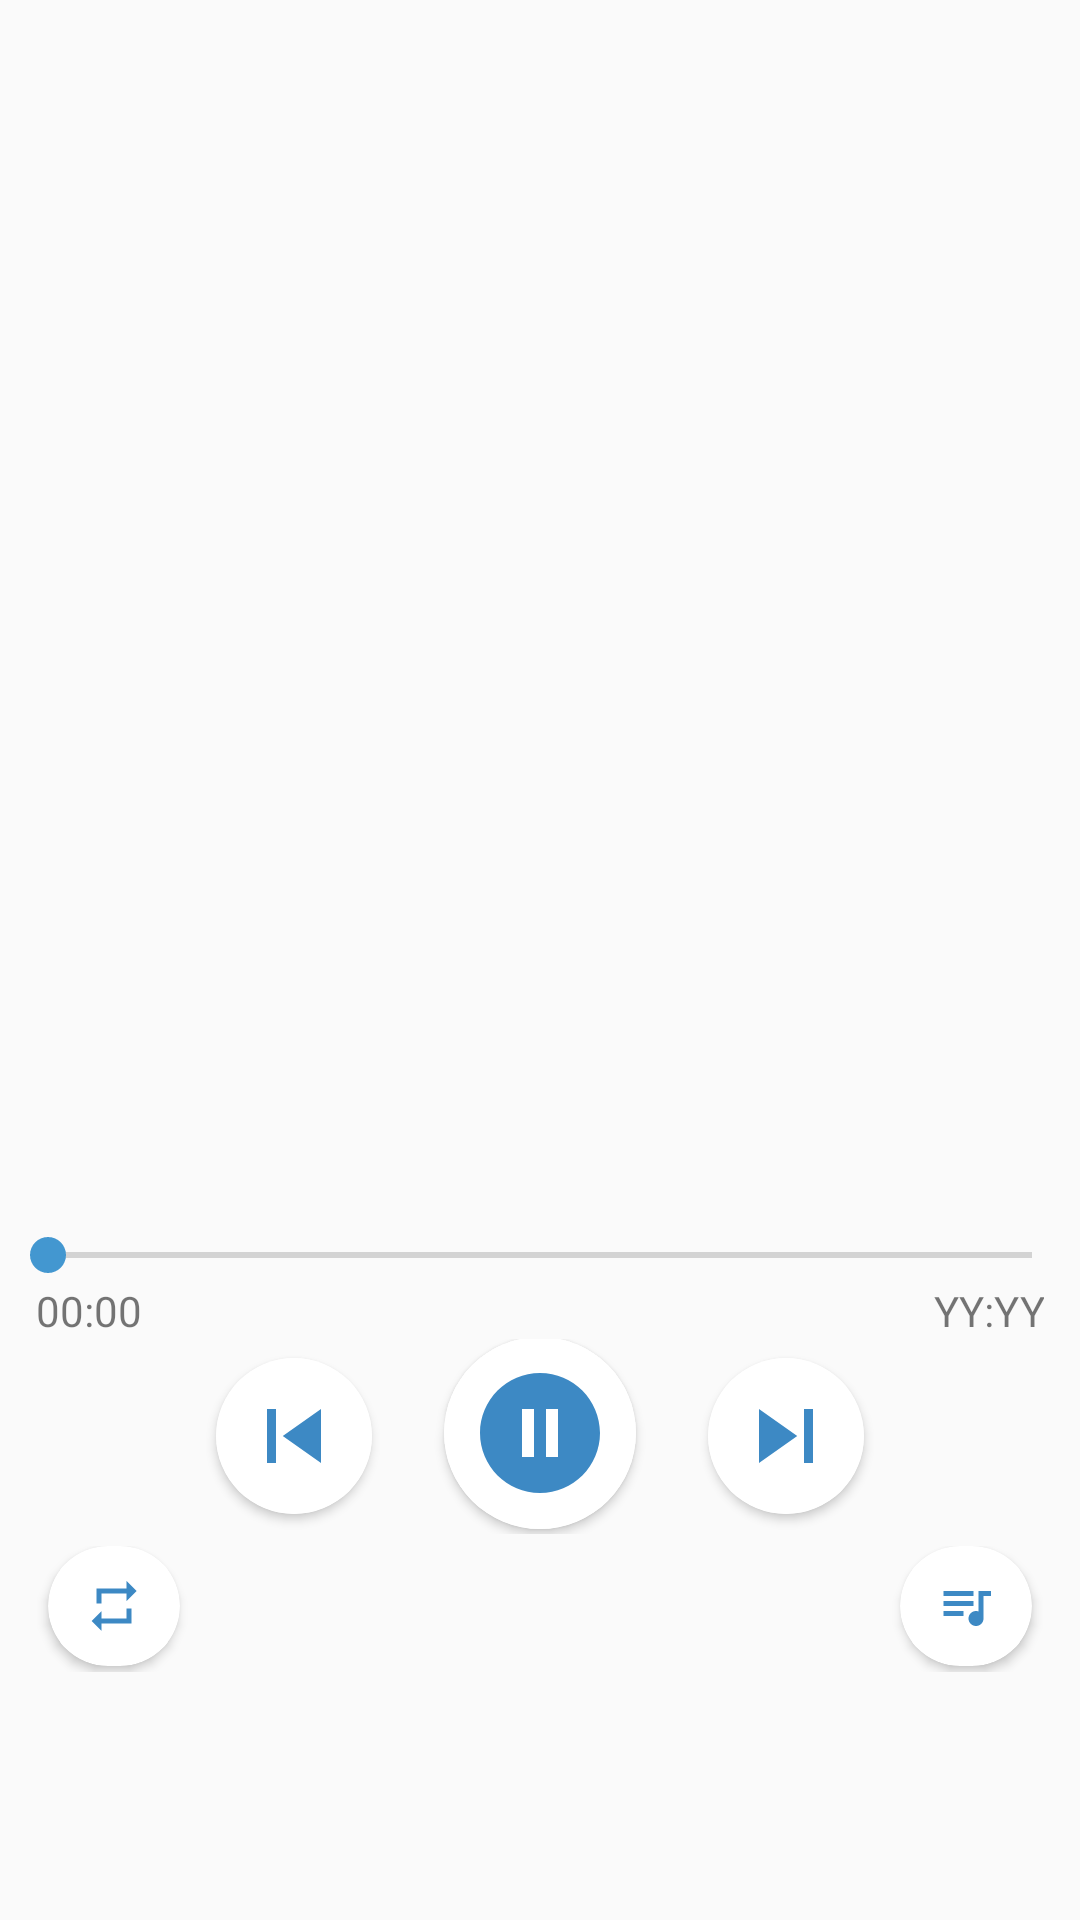

Icon click points for this 1080px x 1920px phone screenshot, format (x=x, y=y):
pause circle: (x=540, y=1451)
queue music: (x=968, y=1628)
repeat: (x=111, y=1623)
skip next: (x=788, y=1461)
skip previous: (x=290, y=1461)
